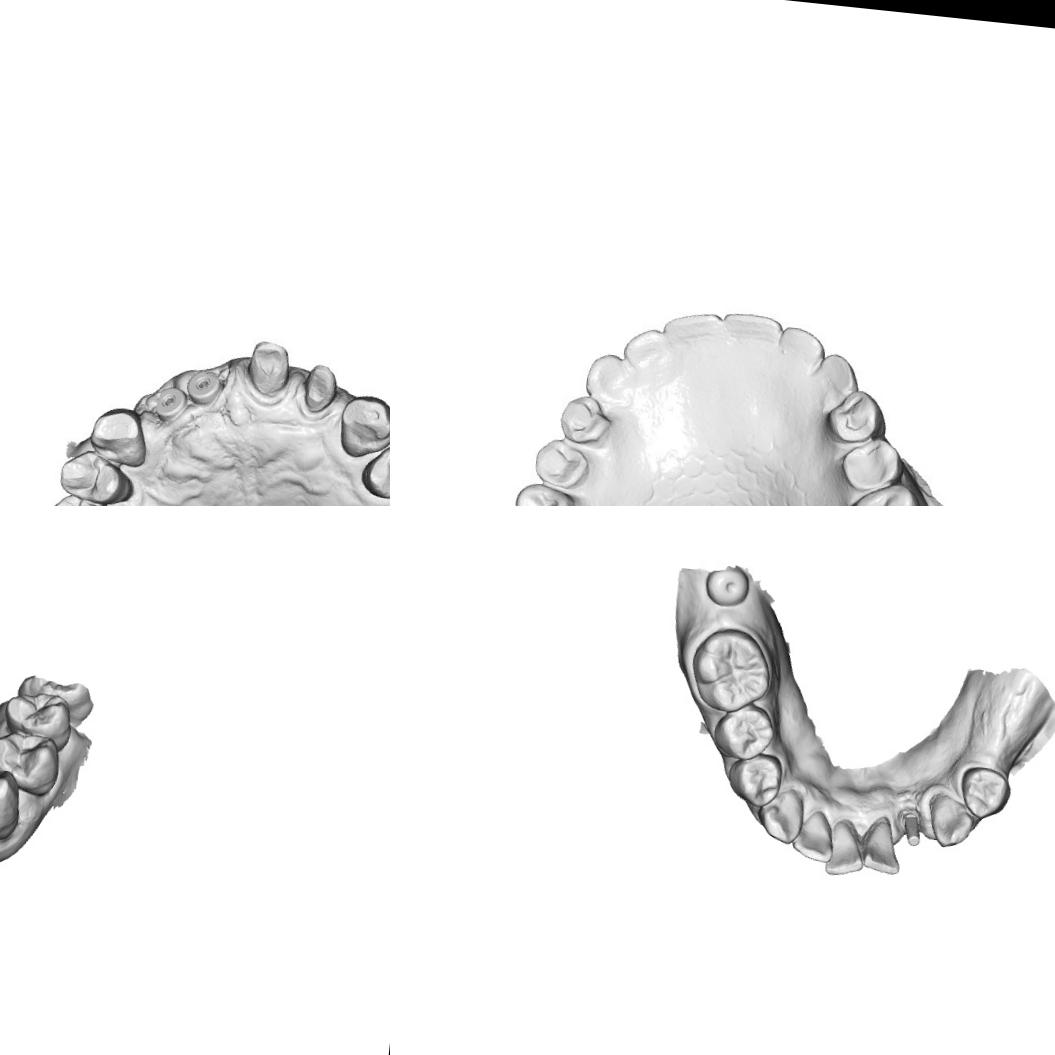abutment: (894, 806, 924, 848)
canine: (86, 404, 156, 470), (330, 391, 390, 462), (754, 784, 808, 846), (923, 790, 977, 850), (582, 348, 634, 406), (0, 765, 24, 843)
crown: (241, 338, 293, 400), (296, 361, 344, 414)
implant: (702, 563, 752, 610), (151, 383, 188, 423), (185, 368, 222, 407)
incisor: (714, 306, 786, 360), (659, 306, 722, 360), (858, 813, 905, 875), (810, 350, 860, 405), (790, 808, 837, 865), (774, 323, 829, 371), (824, 819, 868, 878), (619, 322, 666, 370)
molar: (686, 623, 779, 716), (840, 478, 925, 506), (502, 479, 576, 506)
premolar: (0, 687, 75, 754), (0, 726, 63, 798), (836, 432, 906, 496), (56, 449, 134, 506), (710, 701, 776, 763), (826, 386, 888, 448), (530, 432, 590, 495), (724, 750, 784, 810), (956, 761, 1014, 823), (555, 390, 611, 446), (356, 438, 390, 506), (44, 493, 129, 506)
